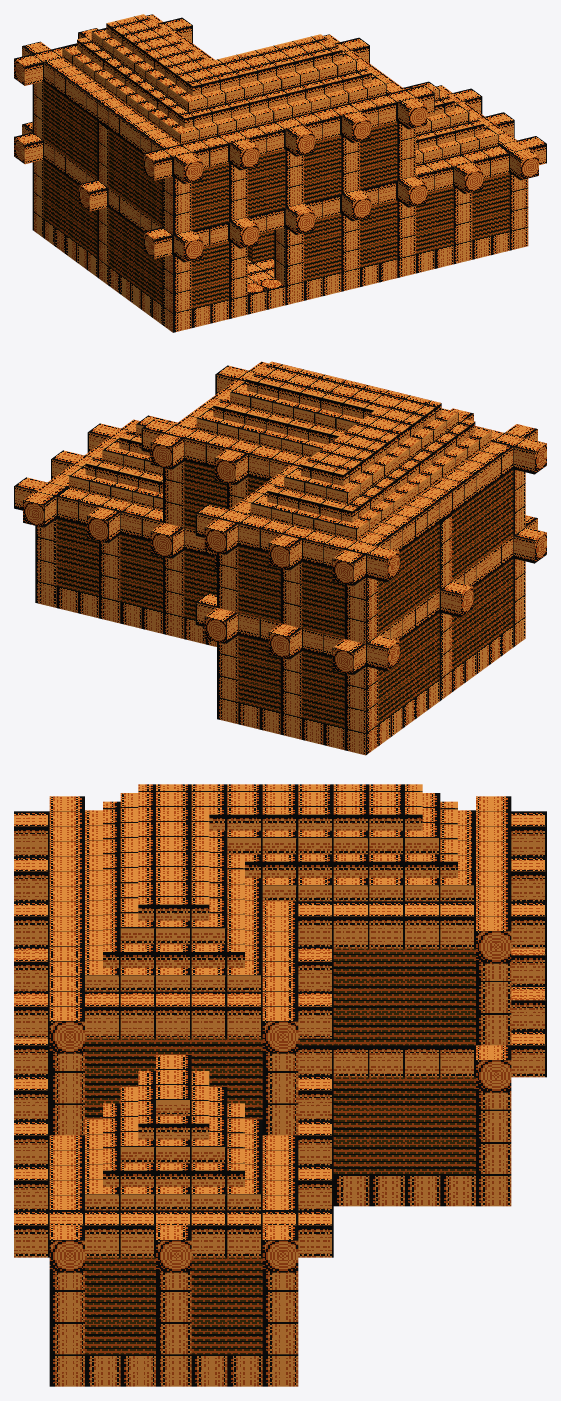
Rendered from building_large_a.fbx.
3 renders of one model, top to bottom at view 1: azimuth 30°, elevation 25°; view 2: azimuth 150°, elevation 25°; view 3: azimuth 270°, elevation 25°, orthographic. The views are drawn at different scales.
Visible parts, largest first — view 1: New_World__19_-61_-14_to_39_319_0; view 2: New_World__19_-61_-14_to_39_319_0; view 3: New_World__19_-61_-14_to_39_319_0.
Boxes of the visible parts, x1,y1,x2,y2 form: New_World__19_-61_-14_to_39_319_0: (14,14,546,332); New_World__19_-61_-14_to_39_319_0: (14,361,546,755); New_World__19_-61_-14_to_39_319_0: (14,784,546,1386).
Size of the model in its own units: 2100 by 1100 by 1500.
